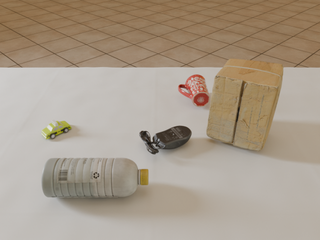bottle: (42, 158, 148, 197)
box: (206, 59, 283, 151)
cup: (178, 75, 210, 107)
mouse: (139, 126, 192, 154)
toy_car: (41, 120, 72, 139)
